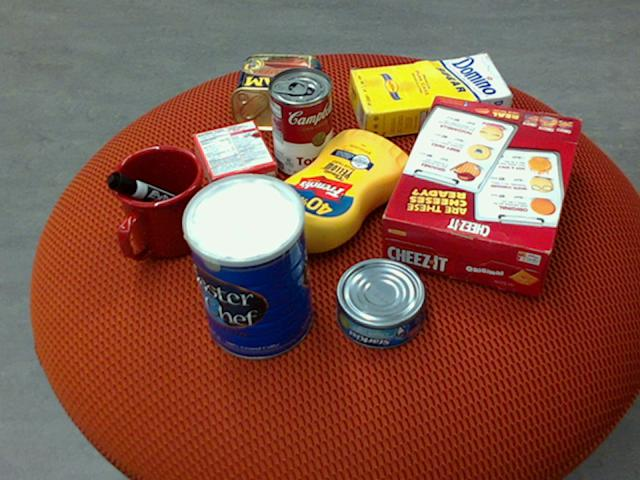cracker_box: (381, 94, 582, 294)
gelatin_box: (192, 119, 276, 198)
large_marker: (105, 172, 203, 222)
master_chef_can: (178, 175, 313, 360)
mug: (108, 145, 209, 260)
mustard_bottle: (257, 129, 411, 262)
potted_meat_can: (231, 54, 322, 131)
sugar_box: (348, 52, 513, 139)
tomato_soup_can: (268, 65, 332, 177)
tuna_fish_can: (336, 258, 426, 349)
